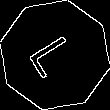L_NE: (26, 28, 84, 82)
